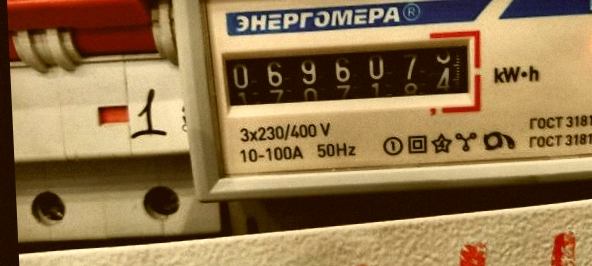0: (365, 51, 385, 82), (231, 61, 249, 90)
4: (433, 63, 451, 93)
6: (332, 53, 351, 83), (265, 59, 283, 87)
7: (399, 50, 420, 82)
9: (298, 57, 317, 86)
screen: (208, 26, 488, 123)
